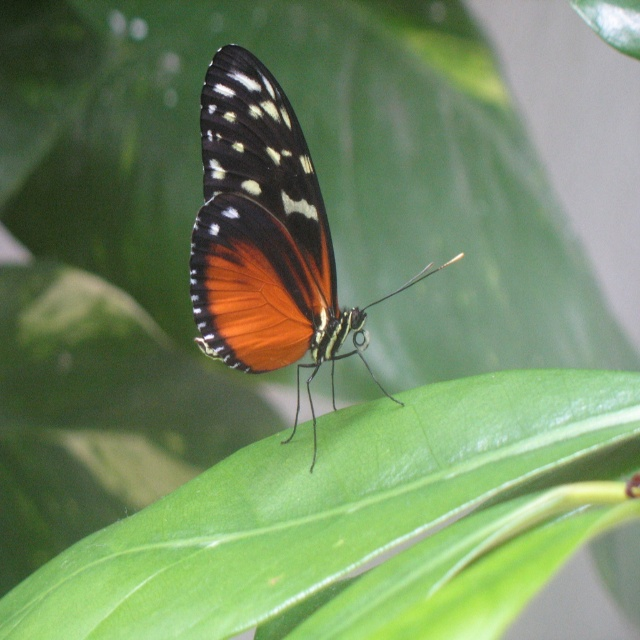Butterfly: (186, 36, 456, 476)
